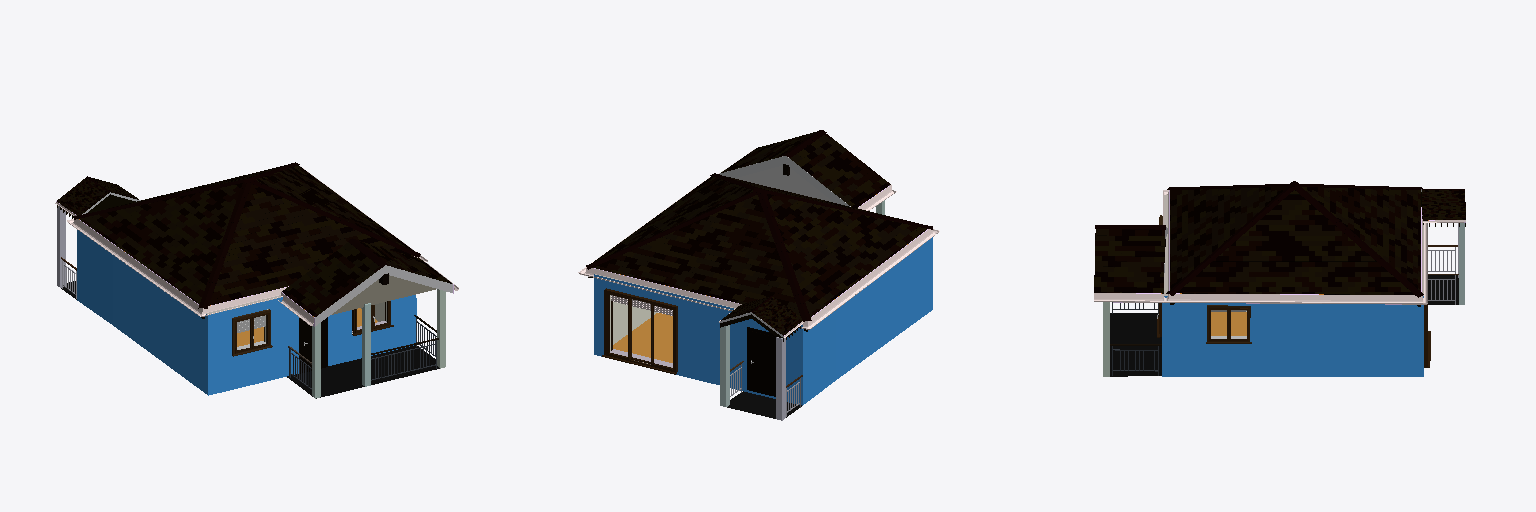
Rendered from House.obj.
The picture shows the model from 3 angles: view 1: azimuth 30°, elevation 25°; view 2: azimuth 150°, elevation 25°; view 3: azimuth 270°, elevation 25°; orthographic projection.
Parts seen in each view (by area): view 1: Roof.001_Roof.003, Wall, Roof, Plane_Plane.001, Roof.002_Roof.004, Wall.010, Window.002, Pole.003_Cube.003, Pole.004_Cube.004, Pole.002_Cube.002, Pole.001_Cube.001, Fence.004 (+1 smaller); view 2: Roof.001_Roof.003, Wall, Roof, Roof.002_Roof.004, Window.001, Floor1_Plane, Panel, Wall.011, Plane.001_Plane.002, Pole.001_Cube.001, Pole_Cube; view 3: Roof.001_Roof.003, Wall, Roof, Plane_Plane.001, Roof.002_Roof.004, Floor1_Plane, Plane.001_Plane.002, Pole.004_Cube.004.
Boxes of the visible parts, x1=… form: Roof.001_Roof.003: x1=67, y1=162, x2=427, y2=318; Wall: x1=77, y1=230, x2=416, y2=395; Roof: x1=278, y1=238, x2=458, y2=326; Plane_Plane.001: x1=287, y1=345, x2=439, y2=398; Roof.002_Roof.004: x1=55, y1=176, x2=140, y2=218; Wall.010: x1=332, y1=275, x2=435, y2=314; Window.002: x1=232, y1=309, x2=272, y2=356; Pole.003_Cube.003: x1=362, y1=303, x2=370, y2=386; Pole.004_Cube.004: x1=437, y1=289, x2=445, y2=368; Pole.002_Cube.002: x1=312, y1=323, x2=320, y2=398; Pole.001_Cube.001: x1=57, y1=206, x2=65, y2=287; Fence.004: x1=371, y1=338, x2=438, y2=380; Roof.001_Roof.003: x1=578, y1=173, x2=939, y2=331; Wall: x1=594, y1=237, x2=932, y2=405; Roof: x1=719, y1=130, x2=896, y2=210; Roof.002_Roof.004: x1=719, y1=296, x2=803, y2=341; Window.001: x1=602, y1=288, x2=677, y2=374; Floor1_Plane: x1=613, y1=313, x2=672, y2=362; Panel: x1=750, y1=331, x2=772, y2=395; Wall.011: x1=735, y1=165, x2=833, y2=202; Plane.001_Plane.002: x1=727, y1=391, x2=801, y2=418; Pole.001_Cube.001: x1=776, y1=337, x2=785, y2=420; Pole_Cube: x1=720, y1=325, x2=729, y2=406; Roof.001_Roof.003: x1=1163, y1=181, x2=1427, y2=306; Wall: x1=1162, y1=195, x2=1423, y2=376; Roof: x1=1094, y1=225, x2=1167, y2=302; Plane_Plane.001: x1=1110, y1=313, x2=1161, y2=376; Roof.002_Roof.004: x1=1421, y1=189, x2=1465, y2=226; Floor1_Plane: x1=1211, y1=312, x2=1246, y2=335; Plane.001_Plane.002: x1=1428, y1=275, x2=1458, y2=304; Pole.004_Cube.004: x1=1103, y1=302, x2=1109, y2=376.
Bounding box in the file's own units: 8.13 × 4.86 × 11.31.